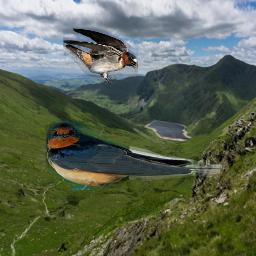Swallow: (42, 118, 222, 190), (63, 28, 138, 84)
